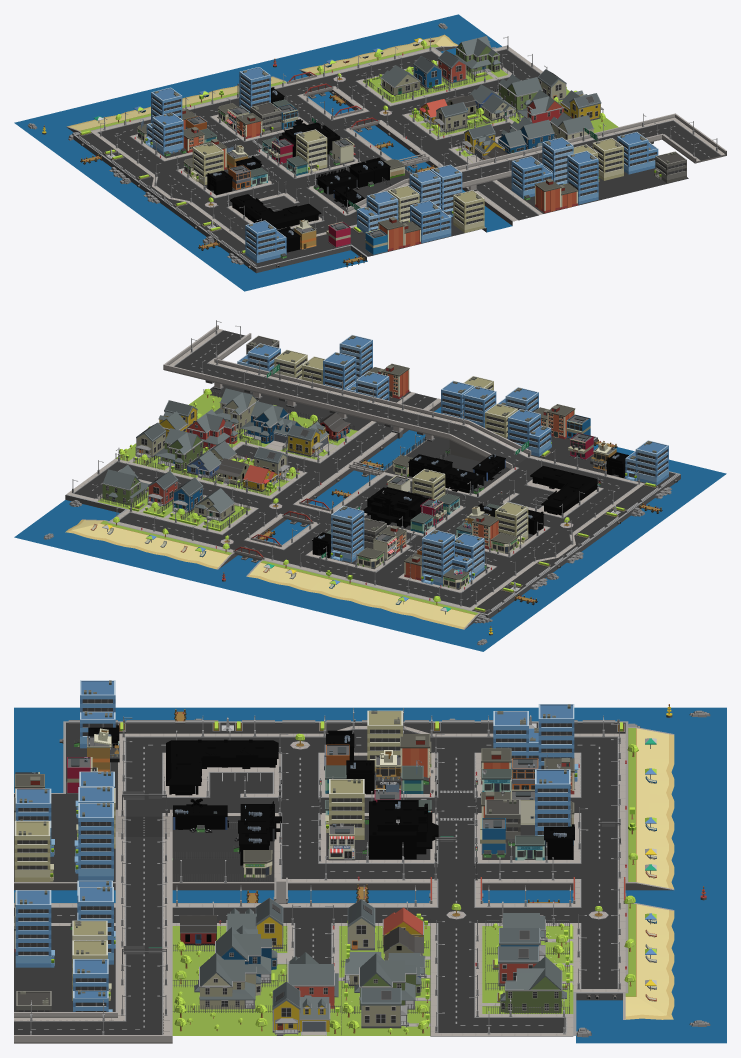
Rendered from Town.glb.
3 views of the same model, one above another, from view 1: azimuth 30°, elevation 25°; view 2: azimuth 150°, elevation 25°; view 3: azimuth 270°, elevation 25° (orthographic). The views are drawn at different scales.
Visible parts, largest first — view 1: Env, Env_Seawall_Straight, Building_Mall, road_square_mesh_11, Building_OfficeStepped_Blue_1, Building_OfficeLarge_Blue_1, Building_OfficeStepped_Blue, Building_OfficeStepped_Grey, Building_House_05_1, Building_OfficeStepped_Grey_1, Building_OfficeStepped_Blue_3, Building_OfficeMedium_Brown_1 (+51 smaller); view 2: Env, Env_Road_Ramp_Straight, Building_Mall, Building_Cinema, Building_OfficeLarge_Blue, Building_OfficeStepped_Blue_1, Building_OfficeLarge_Grey, Env_Water_Tile, Building_OfficeStepped_Blue_3, Building_House_05, Building_House_05_1, Building_House_06 (+49 smaller); view 3: Env, grass_square_mesh_1, Building_Mall, road_square_mesh_5, Building_Cinema, Env_Water_Tile, road_square_mesh_11, grass_square_mesh_3, Building_House_08, Building_OfficeLarge_Blue_1, Building_OfficeLarge_Brown, Building_House_05_1 (+70 smaller).
Part boxes in pixels (bbox=[...]): Env: bbox=[14, 21, 513, 291]; Env_Seawall_Straight: bbox=[257, 244, 367, 284]; Building_Mall: bbox=[229, 194, 321, 229]; road_square_mesh_11: bbox=[497, 168, 688, 213]; Building_OfficeStepped_Blue_1: bbox=[245, 220, 286, 262]; Building_OfficeLarge_Blue_1: bbox=[567, 151, 598, 204]; Building_OfficeStepped_Blue: bbox=[145, 112, 183, 155]; Building_OfficeStepped_Grey: bbox=[410, 200, 451, 243]; Building_House_05_1: bbox=[455, 36, 500, 75]; Building_OfficeStepped_Grey_1: bbox=[617, 132, 658, 174]; Building_OfficeStepped_Blue_3: bbox=[357, 191, 398, 233]; Building_OfficeMedium_Brown_1: bbox=[453, 190, 484, 232]; Env: bbox=[44, 400, 726, 651]; Env_Road_Ramp_Straight: bbox=[449, 420, 531, 468]; Building_Mall: bbox=[530, 466, 600, 515]; Building_Cinema: bbox=[363, 487, 431, 527]; Building_OfficeLarge_Blue: bbox=[330, 506, 364, 562]; Building_OfficeStepped_Blue_1: bbox=[625, 440, 668, 485]; Building_OfficeLarge_Grey: bbox=[421, 529, 454, 586]; Env_Water_Tile: bbox=[14, 500, 95, 544]; Building_OfficeStepped_Blue_3: bbox=[508, 409, 551, 456]; Building_House_05: bbox=[154, 428, 203, 470]; Building_House_05_1: bbox=[101, 465, 149, 505]; Building_House_06: bbox=[186, 409, 238, 448]; Env: bbox=[14, 707, 726, 1037]; grass_square_mesh_1: bbox=[172, 926, 287, 1035]; Building_Mall: bbox=[166, 739, 278, 795]; road_square_mesh_5: bbox=[172, 816, 274, 881]; Building_Cinema: bbox=[369, 800, 438, 859]; Env_Water_Tile: bbox=[576, 1021, 726, 1043]; road_square_mesh_11: bbox=[14, 926, 115, 1011]; grass_square_mesh_3: bbox=[339, 926, 430, 1035]; Building_House_08: bbox=[194, 952, 261, 1009]; Building_OfficeLarge_Blue_1: bbox=[15, 890, 54, 967]; Building_OfficeLarge_Brown: bbox=[74, 802, 113, 880]; Building_House_05_1: bbox=[500, 956, 566, 1013].
Bounding box in the file's own units: 331 × 32.48 × 274.
14 materials, 14 textured.
